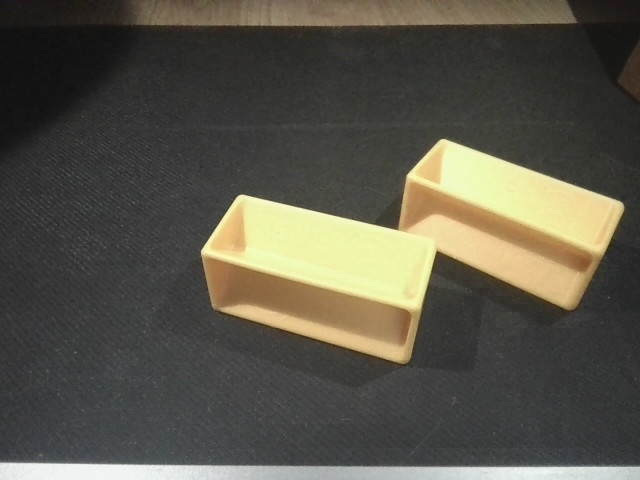YellowSample: (198, 192, 438, 367), (396, 135, 628, 316)
